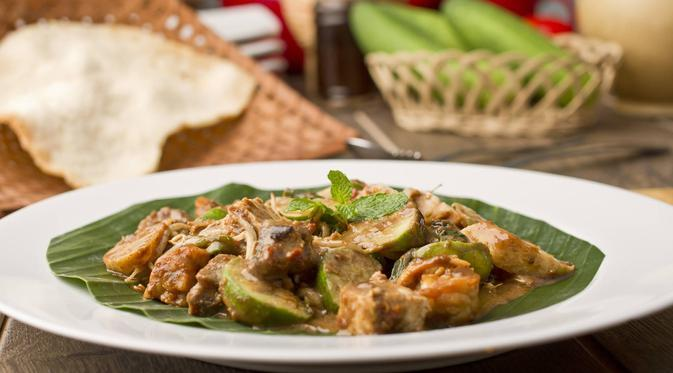rujak_cingur: (103, 182, 576, 338)
